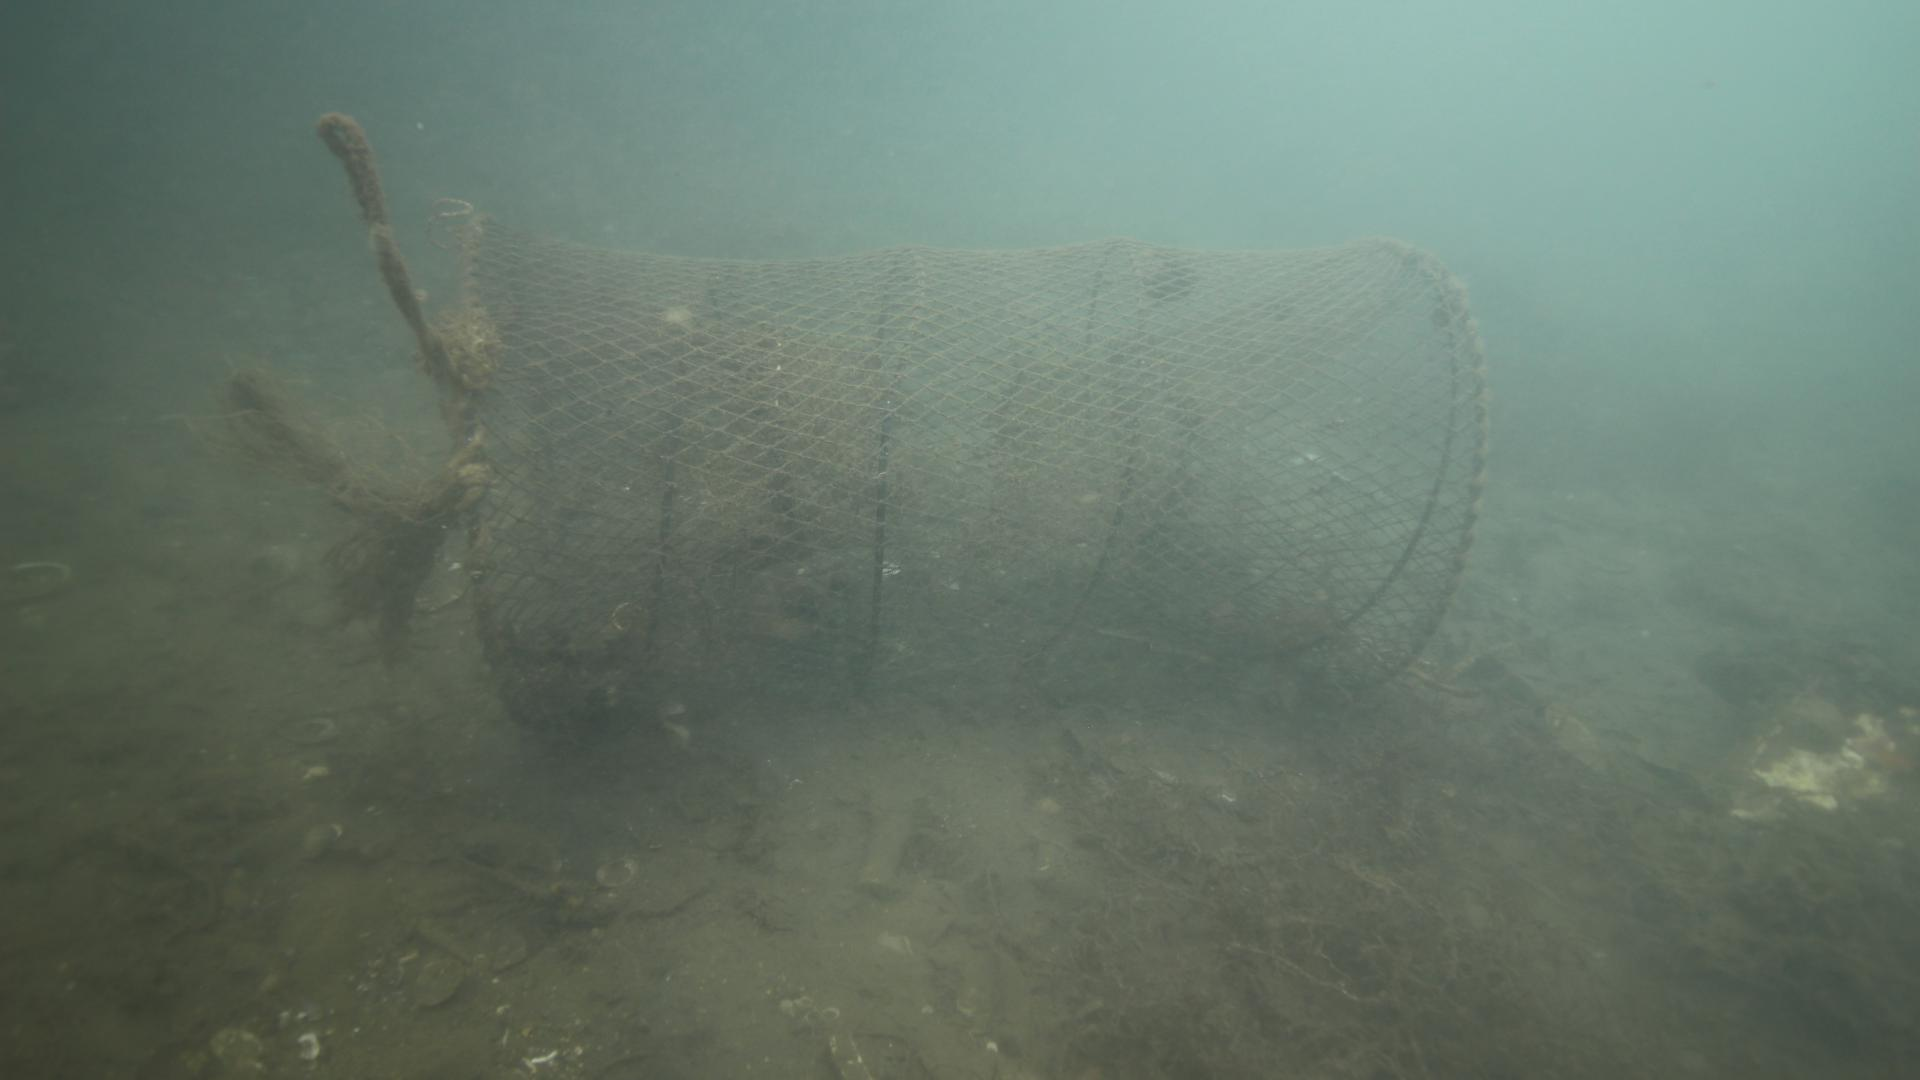bundle of ropes: (311, 108, 462, 393)
spring fish trap: (454, 203, 1491, 742)
